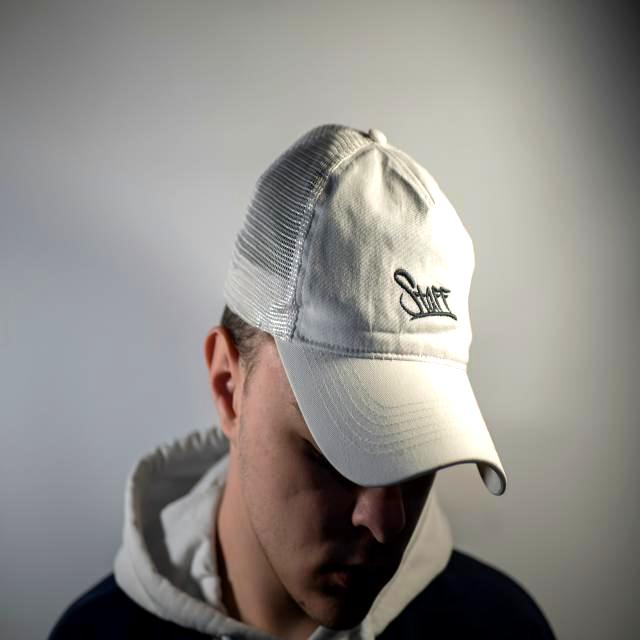no_hard_hat: (226, 125, 506, 495)
person: (48, 306, 555, 640)
